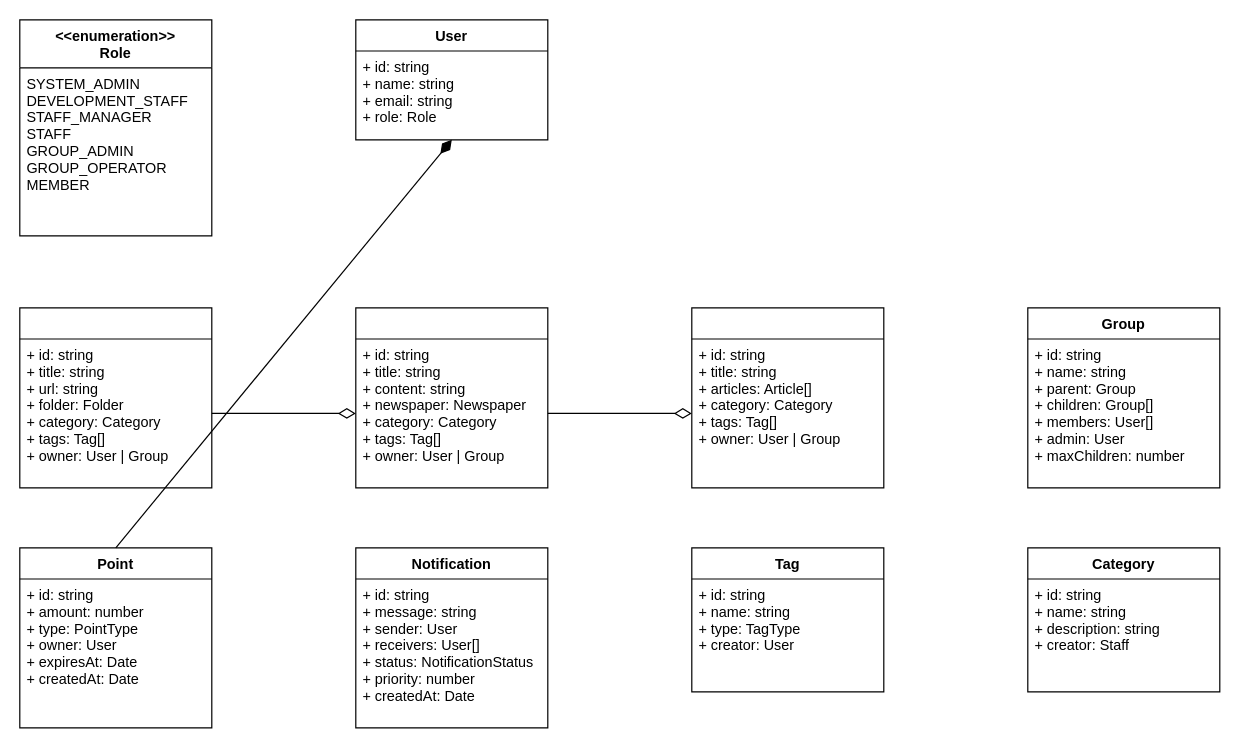
Some shapes in this 1240 by 748 pixel diagram are drawn without their labels. Each missing label, with the box of its shape:
Article: (355, 307, 548, 488)
Bookmark: (19, 307, 212, 488)
Newspaper: (691, 307, 884, 488)
